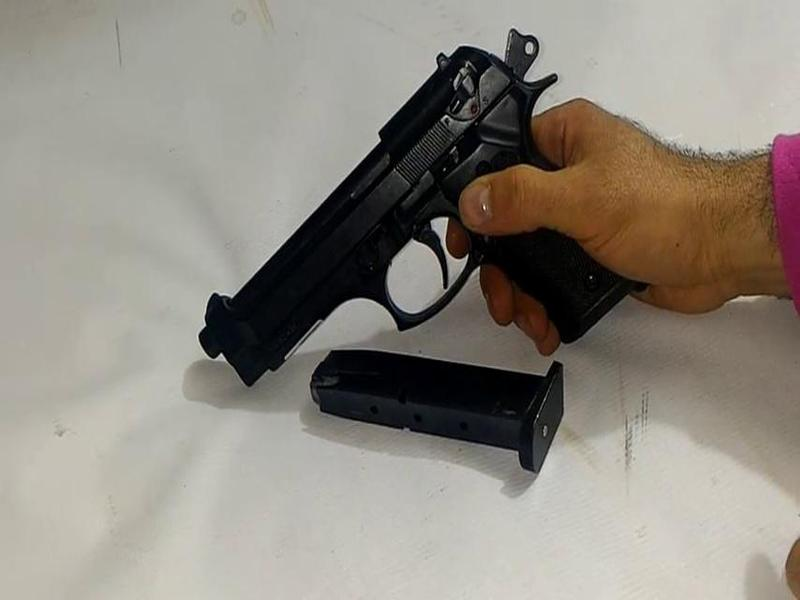Pistola: (156, 26, 644, 396)
